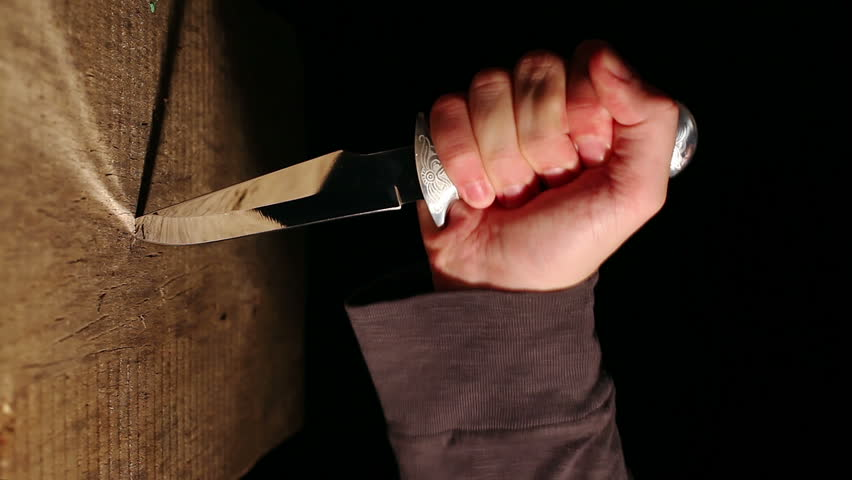knife: (112, 41, 582, 256)
